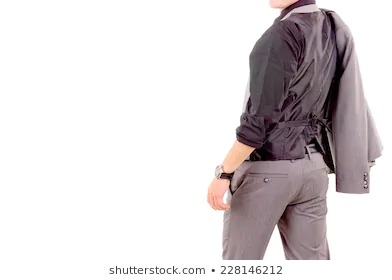F_dress pants: (223, 152, 334, 258)
F_shirt: (222, 1, 361, 162)
